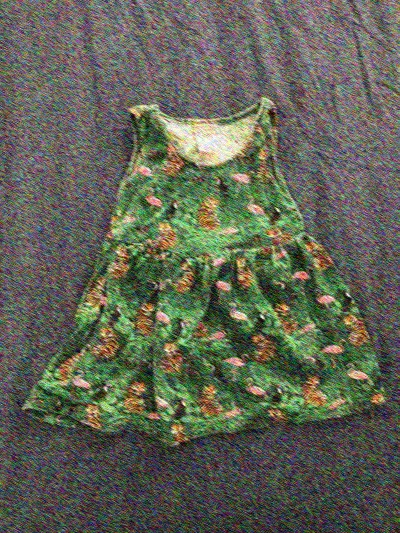Dress: (16, 91, 388, 462)
